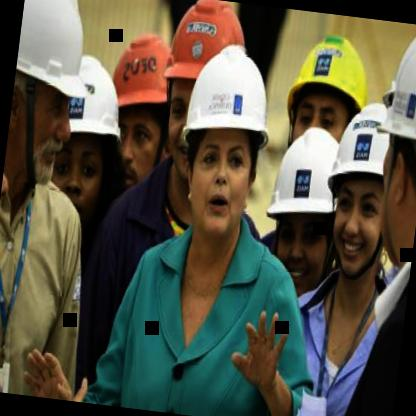helmet: (171, 39, 280, 245), (27, 43, 126, 226), (151, 0, 249, 183), (1, 0, 92, 192), (258, 122, 350, 298), (317, 94, 400, 282), (359, 21, 416, 270), (276, 31, 372, 176), (99, 24, 178, 198)
